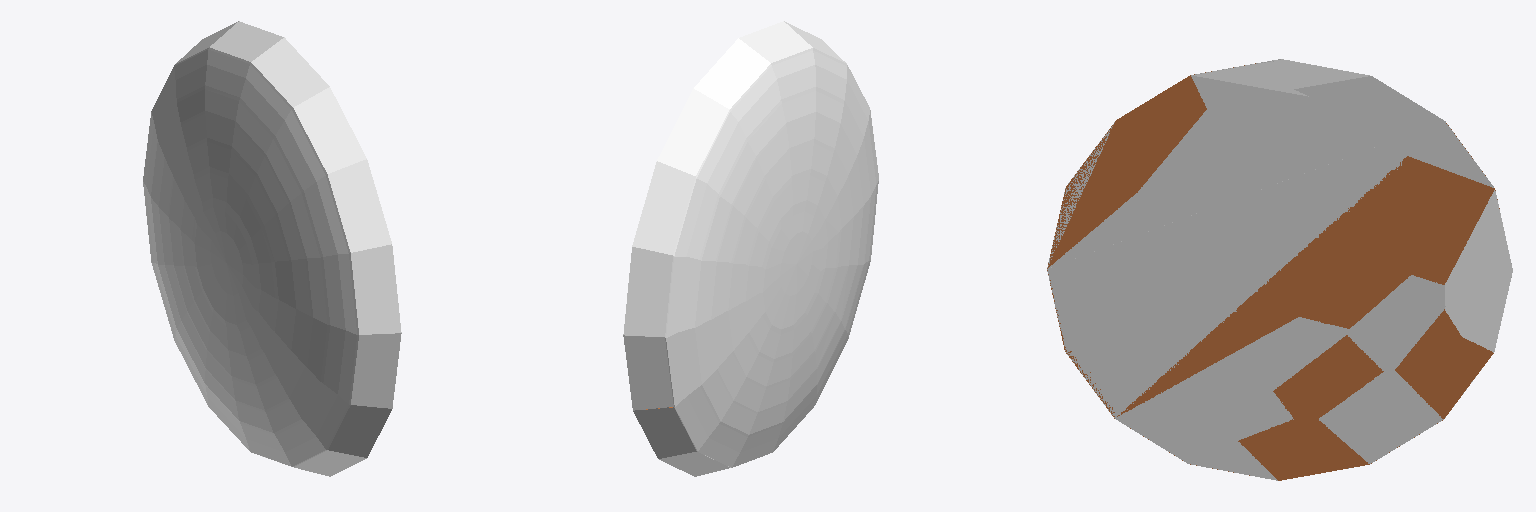
File: taco.obj
The picture shows the model from 3 angles: view 1: azimuth 30°, elevation 25°; view 2: azimuth 150°, elevation 25°; view 3: azimuth 270°, elevation 25°; orthographic projection.
Visible parts, largest first — view 1: objobjcue07; view 2: objobjcue07; view 3: objobjcue06, objobjcue01, objobjcue07.
Part boxes in pixels (x1,y1,x2,y2): objobjcue07: (143,21,401,476); objobjcue07: (623,21,878,476); objobjcue06: (1047,59,1511,480); objobjcue01: (1047,63,1499,480); objobjcue07: (1047,59,1512,382).
Bounding box in the file's own units: 0.3017 × 2.09 × 2.09.